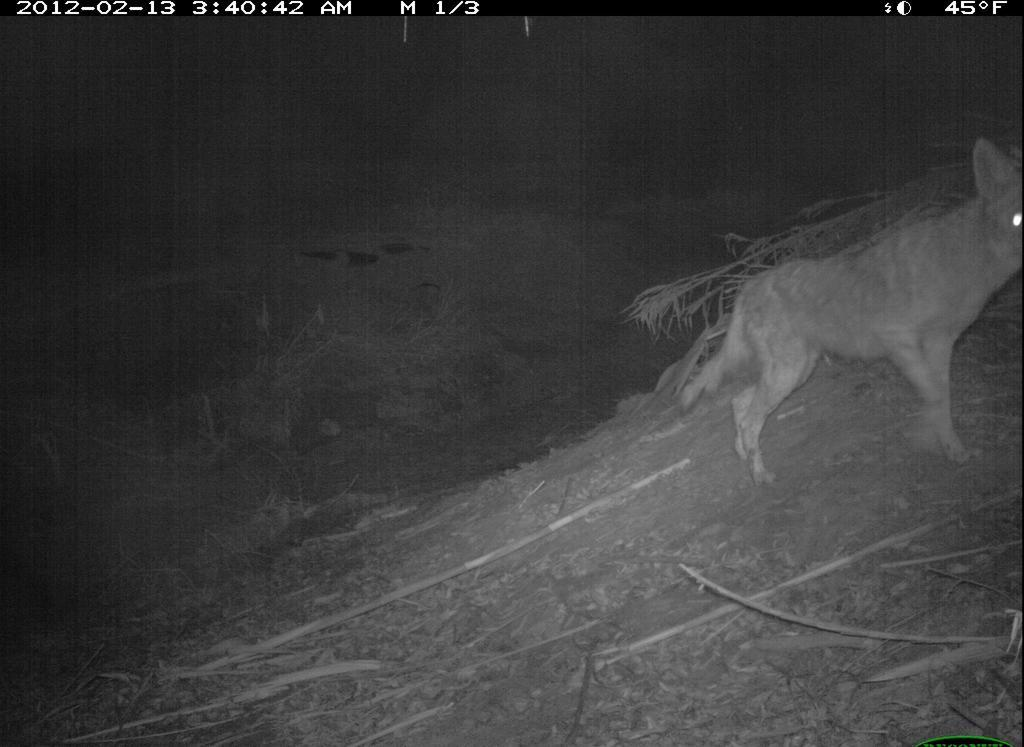coyote: (676, 131, 1021, 488)
